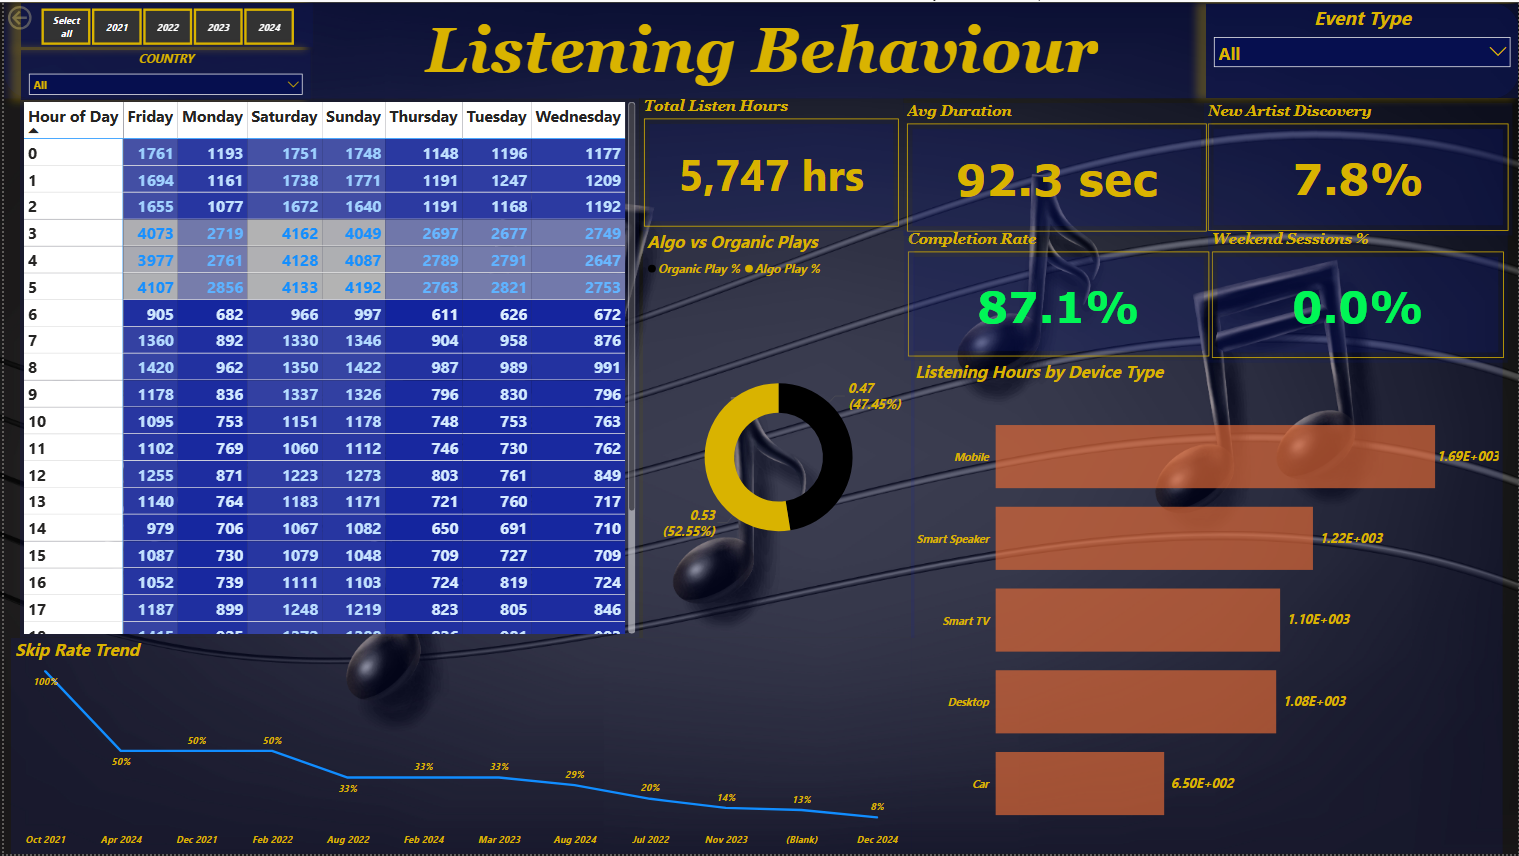

This screenshot's page, from the dashboard's own definition file:
{"tool":"powerbi","page":{"name":"Listening Behaviour","canvas":[1920,1080],"ordinal":3},"visuals":[{"type":"shape","box":[0,1.5,1920,121.1],"z":0},{"type":"cardVisual","title":"New Artist Discovery","fields":{"Data":["bridge_playlist_track.New Artist Discovery Rate"]},"box":[1520.9,127.4,391,167.8],"z":1000},{"type":"actionButton","box":[0,0,100,40],"z":2000},{"type":"cardVisual","title":"Total Listen Hours","fields":{"Data":["bridge_playlist_track.Total Listen Hours"]},"box":[806,121.6,333.8,168.2],"z":3000},{"type":"cardVisual","title":"Avg Duration","fields":{"Data":["bridge_playlist_track.Avg Listen Duration (sec)"]},"box":[1140,127.4,390.7,168.1],"z":4000},{"type":"group","id":"g1","title":"Group 2","box":[21,1.4,369.7,123.2],"z":5000},{"type":"cardVisual","title":"Weekend Sessions %","fields":{"Data":["bridge_playlist_track.Weekend Sessions %"]},"box":[1526.7,289.8,380.4,166.9],"z":6000},{"type":"cardVisual","title":"Completion Rate","fields":{"Data":["bridge_playlist_track.Completion Rate %"]},"box":[1141.1,289.8,392,164.3],"z":7000},{"type":"slicer","title":"Event Type","fields":{"Values":["fact_subscription_event.event_type"]},"box":[1523.7,2.8,396.3,119],"z":8000},{"type":"clusteredBarChart","title":"Listening Hours by Device Type","fields":{"Category":["dim_device.device_type"],"Y":["bridge_playlist_track.Total Listen Hours"]},"box":[1150.2,454.1,750.4,626.2],"z":9000},{"type":"lineChart","title":"Skip Rate Trend","fields":{"Category":["dim_date.Month-Year"],"Y":["bridge_playlist_track.Skip Rate"]},"box":[9.1,806,1141.1,274.3],"z":10000},{"type":"slicer","fields":{"Values":["dim_date.year"]},"box":[21,1.4,369.7,55.8],"z":11000,"group":"g1"},{"type":"donutChart","title":"Algo vs Organic Plays","fields":{"Y":["bridge_playlist_track.Organic Play %","bridge_playlist_track.Algo Play %"]},"box":[810.4,289.6,343.8,516.7],"z":11000},{"type":"slicer","title":"COUNTRY","fields":{"Values":["dim_country.country_name"]},"box":[21,61.6,367.3,63.1],"z":12000,"group":"g1"},{"type":"pivotTable","fields":{"Rows":["fact_listening_session.Hour of Day"],"Columns":["fact_listening_session.session_weekday"],"Values":["bridge_playlist_track.Total Sessions"]},"box":[20.7,121.6,785.3,684.4],"z":12000}]}

Visuals, with their boxes in screenshot pixels (x1, y1, x2, y2), scaled from the page's 1920x1080 canvas onto the 1519x856 screenshot:
shape: {"left": 0, "top": 1, "right": 1518, "bottom": 97}
"New Artist Discovery" cardVisual: {"left": 1203, "top": 101, "right": 1513, "bottom": 234}
actionButton: {"left": 0, "top": 0, "right": 79, "bottom": 32}
"Total Listen Hours" cardVisual: {"left": 638, "top": 96, "right": 902, "bottom": 230}
"Avg Duration" cardVisual: {"left": 902, "top": 101, "right": 1211, "bottom": 234}
"Group 2" group: {"left": 17, "top": 1, "right": 309, "bottom": 99}
"Weekend Sessions %" cardVisual: {"left": 1208, "top": 230, "right": 1509, "bottom": 362}
"Completion Rate" cardVisual: {"left": 903, "top": 230, "right": 1213, "bottom": 360}
"Event Type" slicer: {"left": 1205, "top": 2, "right": 1518, "bottom": 97}
"Listening Hours by Device Type" clusteredBarChart: {"left": 910, "top": 360, "right": 1504, "bottom": 855}
"Skip Rate Trend" lineChart: {"left": 7, "top": 639, "right": 910, "bottom": 855}
slicer - dim_date.year: {"left": 17, "top": 1, "right": 309, "bottom": 45}
"Algo vs Organic Plays" donutChart: {"left": 641, "top": 230, "right": 913, "bottom": 639}
"COUNTRY" slicer: {"left": 17, "top": 49, "right": 307, "bottom": 99}
pivotTable - fact_listening_session.Hour of Day x fact_listening_session.session_weekday: {"left": 16, "top": 96, "right": 638, "bottom": 639}
